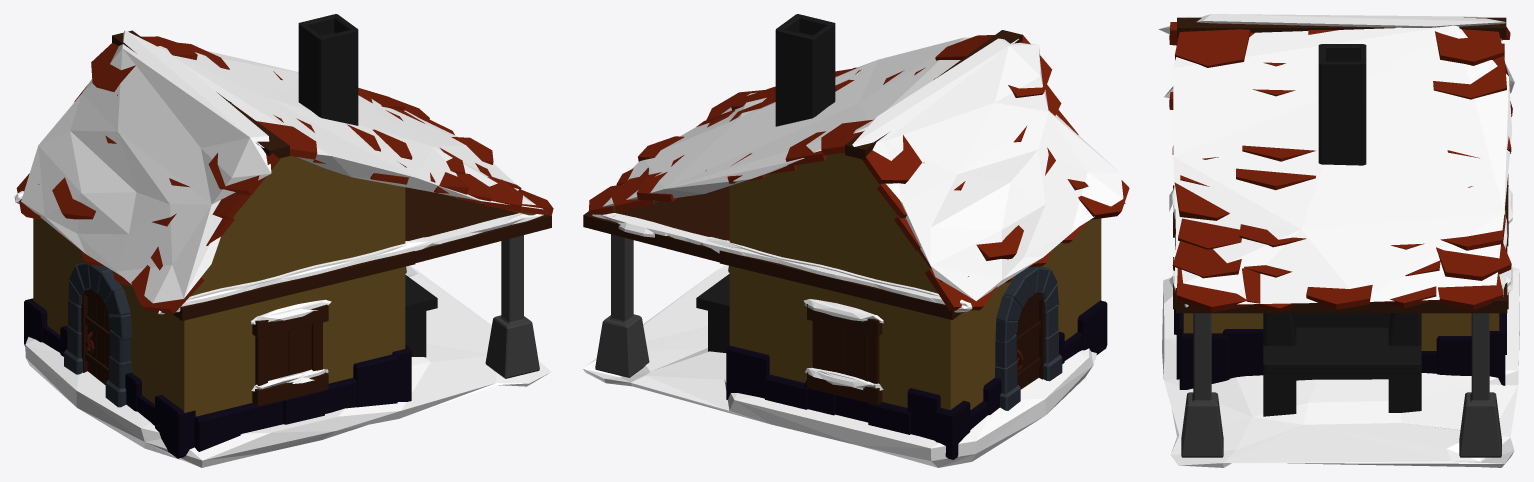
The model's file is BlackSmithWSnow_Shop_01.obj.
3 views of the same model, side by side, from view 1: azimuth 30°, elevation 25°; view 2: azimuth 150°, elevation 25°; view 3: azimuth 270°, elevation 25° (orthographic). The views are drawn at different scales.
Visible parts, largest first — view 1: BlackSmithWSnow_Shop_01_Cube.070; view 2: BlackSmithWSnow_Shop_01_Cube.070; view 3: BlackSmithWSnow_Shop_01_Cube.070.
Part boxes in pixels (left/top/right/bottom): BlackSmithWSnow_Shop_01_Cube.070: left=14, top=14, right=553, bottom=467; BlackSmithWSnow_Shop_01_Cube.070: left=582, top=14, right=1129, bottom=467; BlackSmithWSnow_Shop_01_Cube.070: left=1158, top=14, right=1519, bottom=467.
Bounding box in the file's own units: 13.07 × 10.14 × 9.49.
